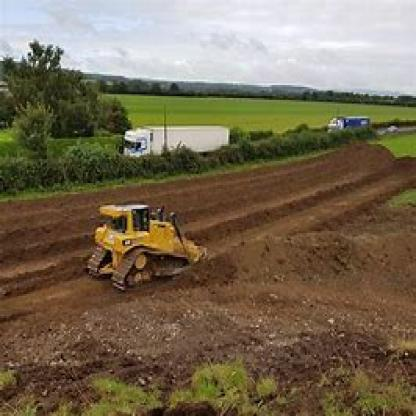bull_dozer/loader/grader: (81, 194, 216, 298)
